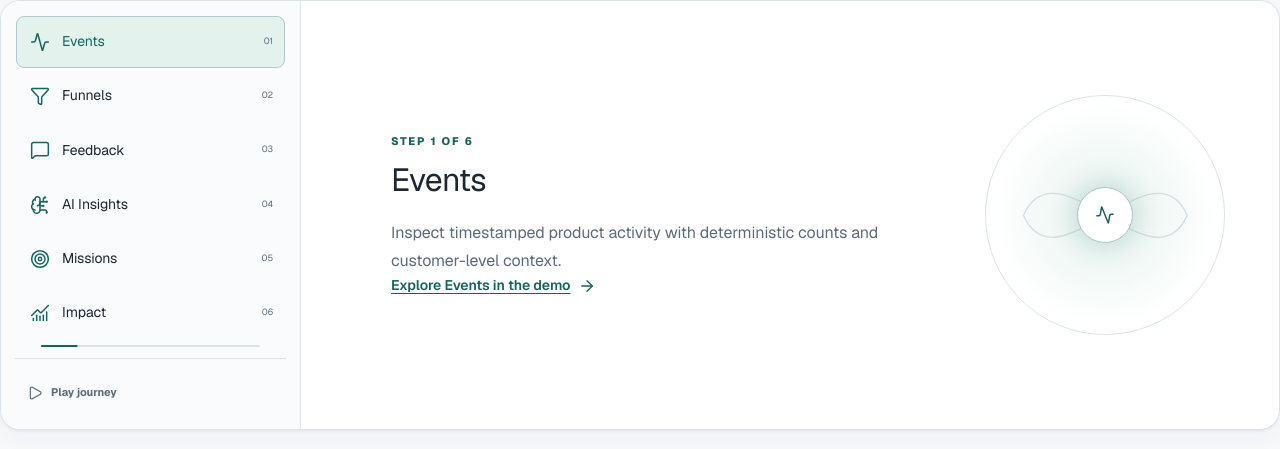
manual stage selection pauses the presentation and renders a distinct visual
Click the button "Play journey". click: x=72, y=393
box: [15, 371, 128, 415]
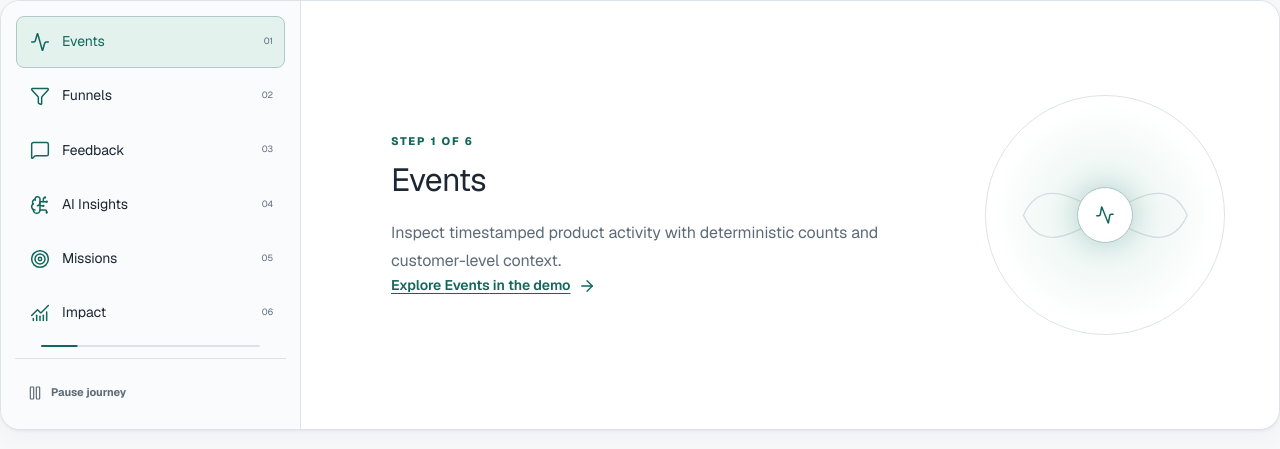
Click the tab "Missions 05". click: x=90, y=258
box: [15, 232, 286, 286]
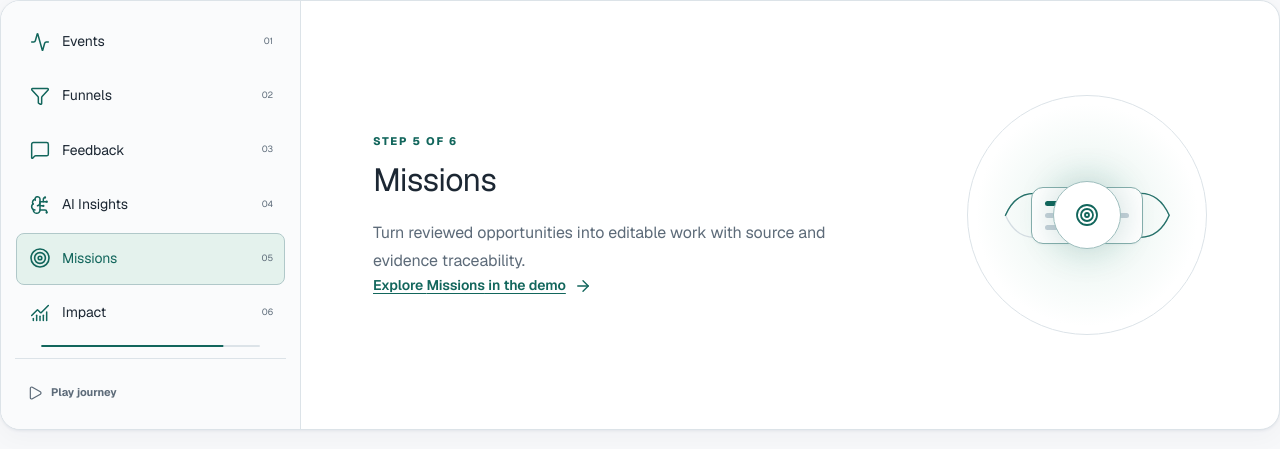
Check: the panel shows "editable work", box [373, 222, 825, 271]
